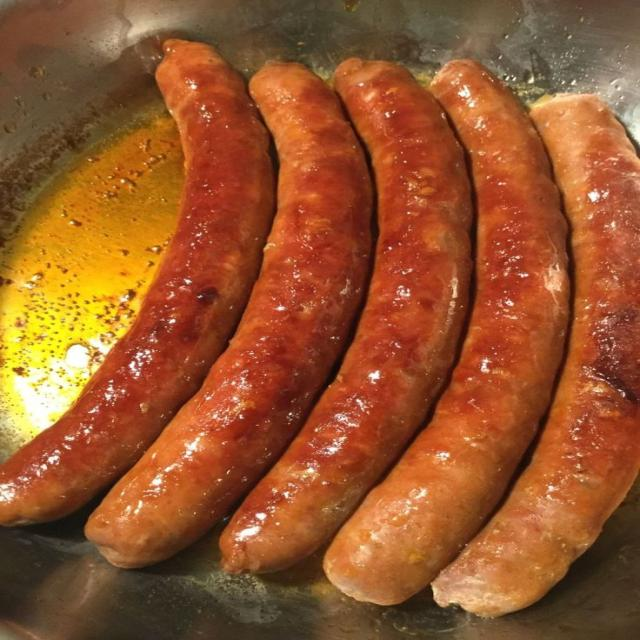sausage: (87, 64, 372, 566), (0, 40, 274, 525), (325, 61, 568, 604), (220, 59, 471, 572), (434, 96, 639, 616)
